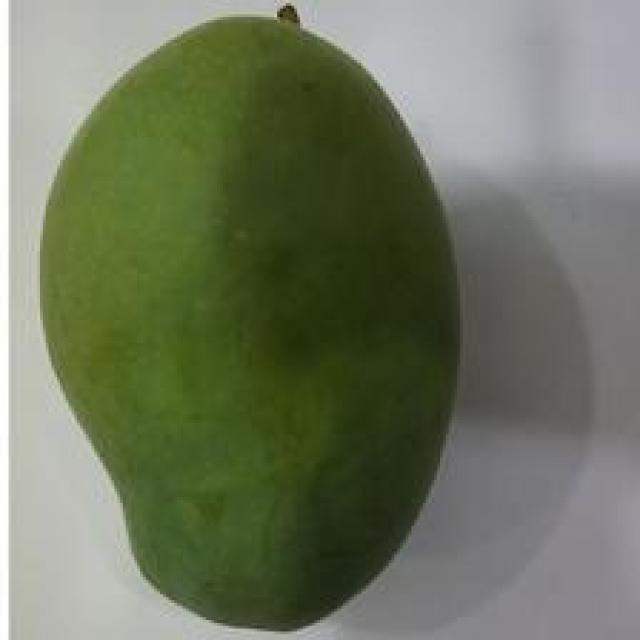Good_Mango: (37, 6, 463, 634)
